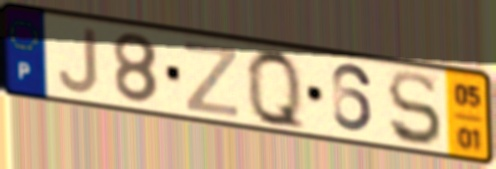6: (329, 62, 377, 139)
8: (110, 31, 161, 106)
J: (56, 25, 101, 96)
Q: (243, 45, 309, 137)
S: (385, 69, 446, 150)
Z: (182, 39, 240, 121)
